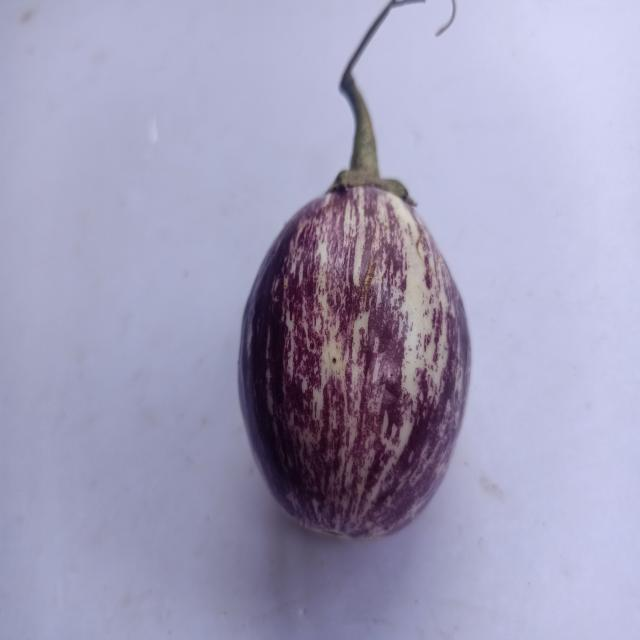Eggplant: (226, 3, 506, 558)
